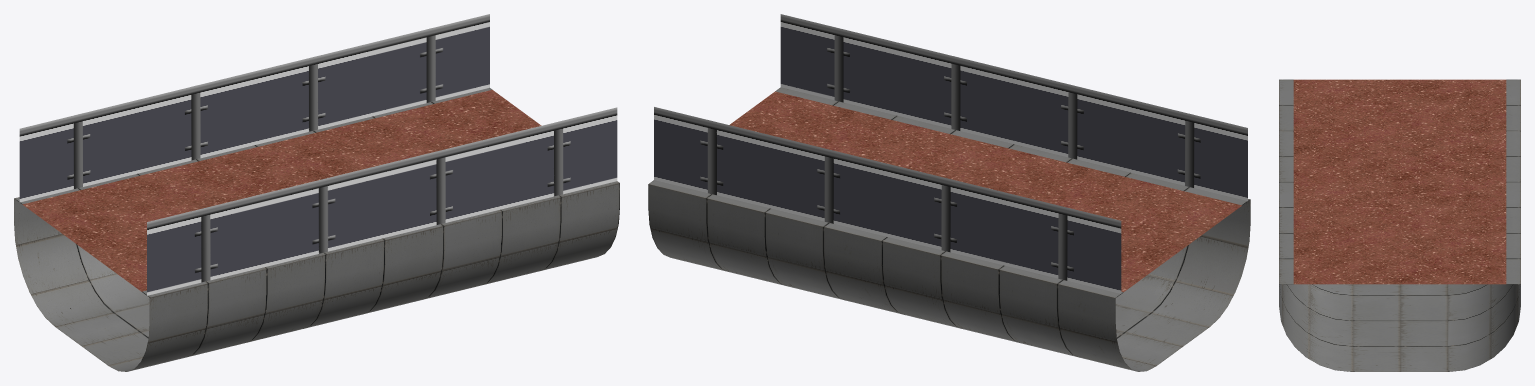
Rendered from sm_prbridge_10m.fbx.
3 views of the same model, side by side, from view 1: azimuth 30°, elevation 25°; view 2: azimuth 150°, elevation 25°; view 3: azimuth 270°, elevation 25° (orthographic). The views are drawn at different scales.
Visible parts, largest first — view 1: sm_prbridge_10m; view 2: sm_prbridge_10m; view 3: sm_prbridge_10m.
Part boxes in pixels (x1,y1,x2,y2): sm_prbridge_10m: (14,14,619,371); sm_prbridge_10m: (648,14,1250,371); sm_prbridge_10m: (1279,79,1520,371).
Bounding box in the file's own units: 10 × 3.5 × 5.
Materials: 3 (3 with a texture image).
